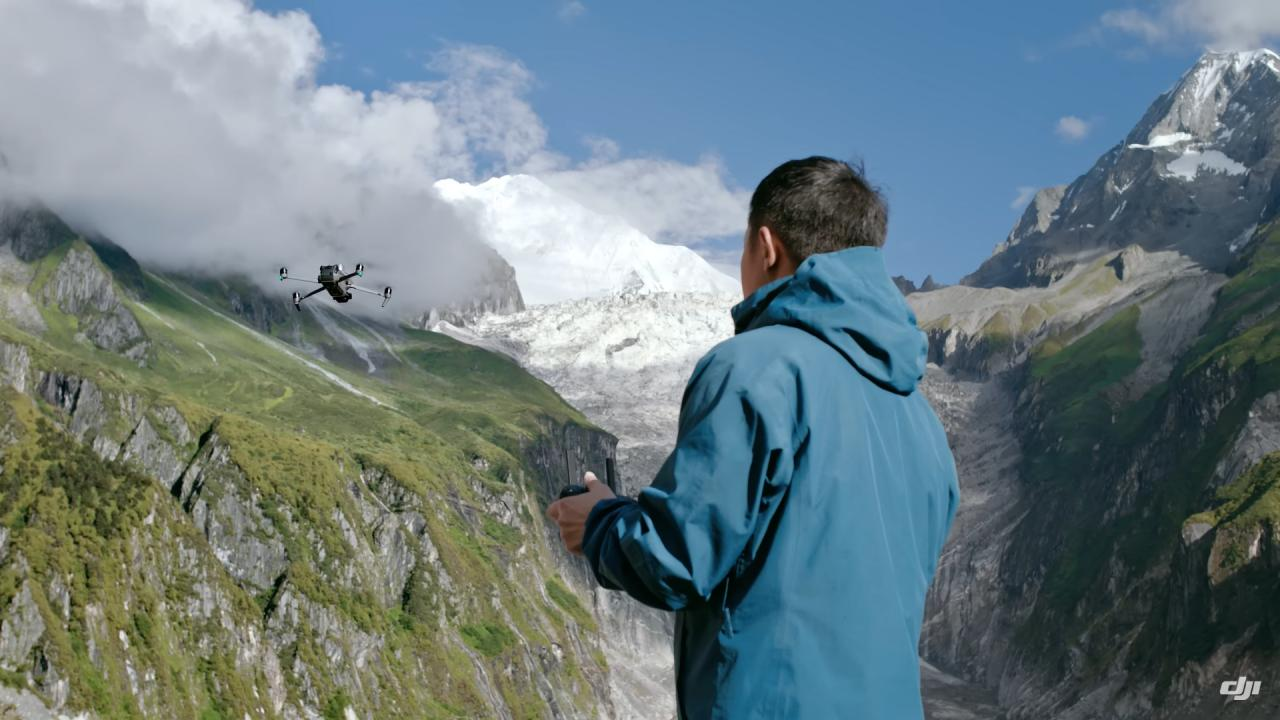Drone: (260, 246, 404, 320)
